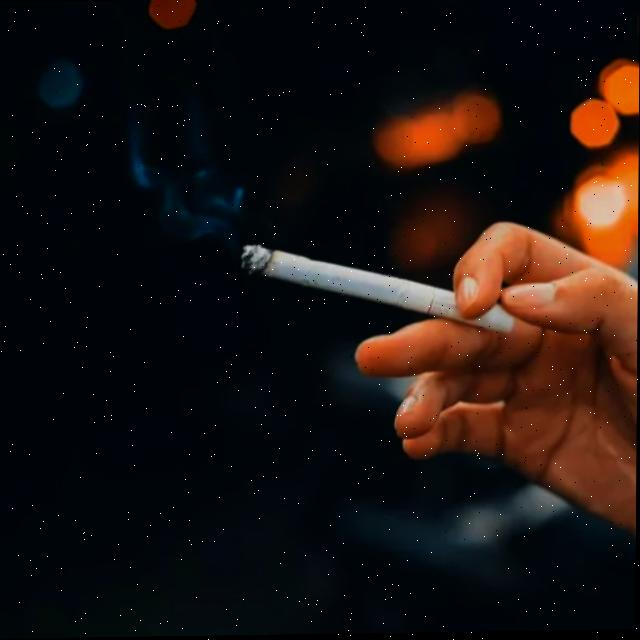cigarette: (240, 241, 517, 336)
